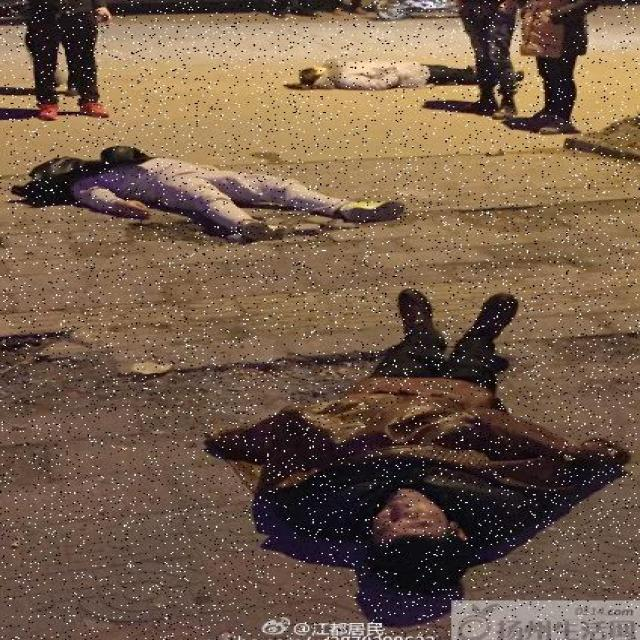fall: (281, 290, 574, 584), (21, 136, 400, 247), (290, 50, 524, 86)
